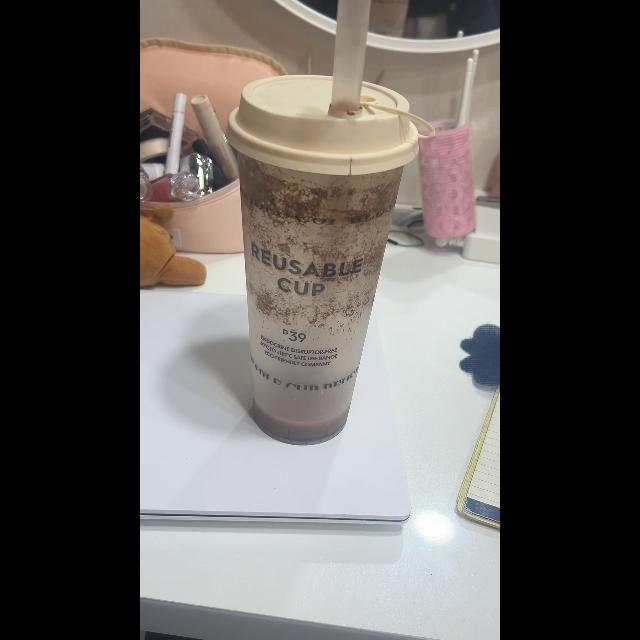dirty: (238, 152, 386, 444)
